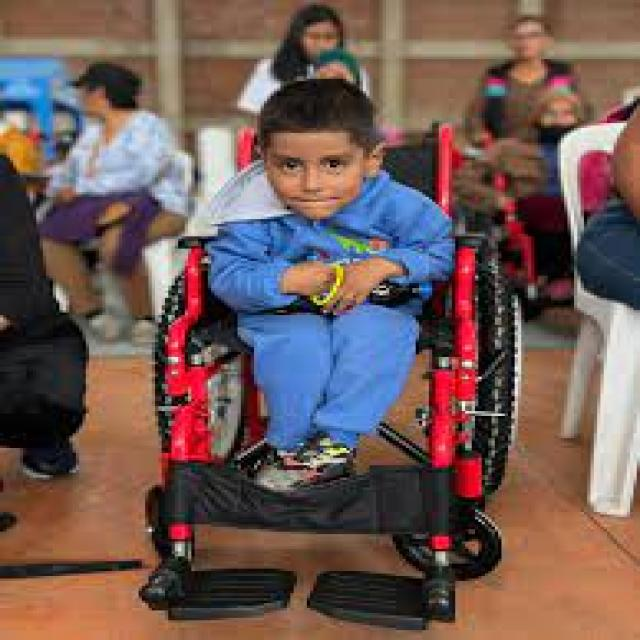wheelchairs: (105, 71, 543, 640)
